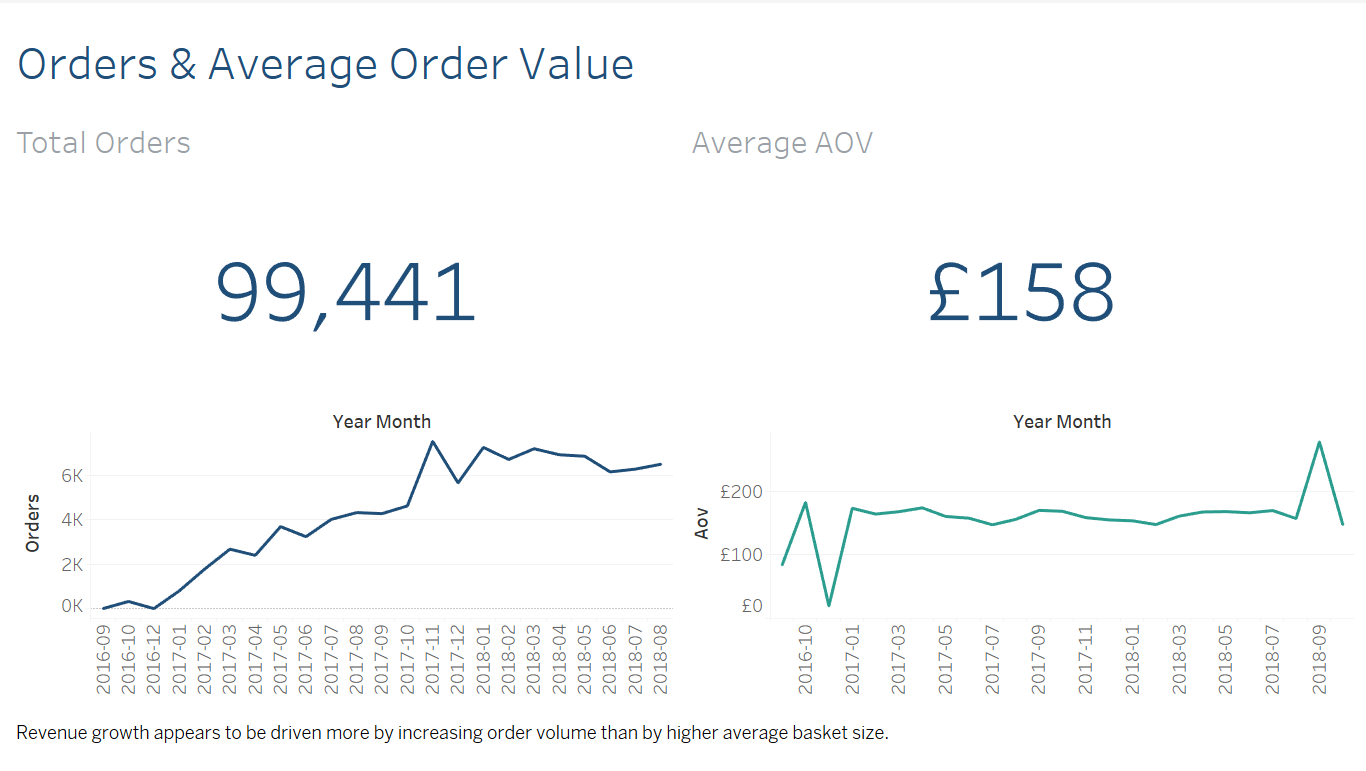

The dashboard page shown, as its layout file describes it:
{"tool":"tableau","page":{"name":"Dashboard 2","canvas":[1366,768],"ordinal":1},"visuals":[{"type":"text","box":[8,8,1350,101]},{"type":"worksheet","title":"KPI_Total_Orders","mark":"Text","box":[8,109,675,295]},{"type":"worksheet","title":"KPI_Avg_AOV","mark":"Text","box":[683,109,675,295]},{"type":"worksheet","title":"Orders_Trend","mark":"Line","rows":["total_orders"],"cols":["year_month"],"box":[8,404,669,295]},{"type":"worksheet","title":"AOV_Trend","mark":"Line","rows":["aov"],"cols":["year_month"],"box":[677,404,680.8,295]},{"type":"text","box":[8,699,1350,61]}]}

Visuals, with their boxes in screenshot pixels (x1, y1, x2, y2), scaled from the page's 1366x768 canvas onto the 1366x771 screenshot:
text: box(8, 8, 1358, 109)
"KPI_Total_Orders" worksheet (Text marks): box(8, 109, 683, 406)
"KPI_Avg_AOV" worksheet (Text marks): box(683, 109, 1358, 406)
"Orders_Trend" worksheet (Line marks): box(8, 406, 677, 702)
"AOV_Trend" worksheet (Line marks): box(677, 406, 1358, 702)
text: box(8, 702, 1358, 763)
